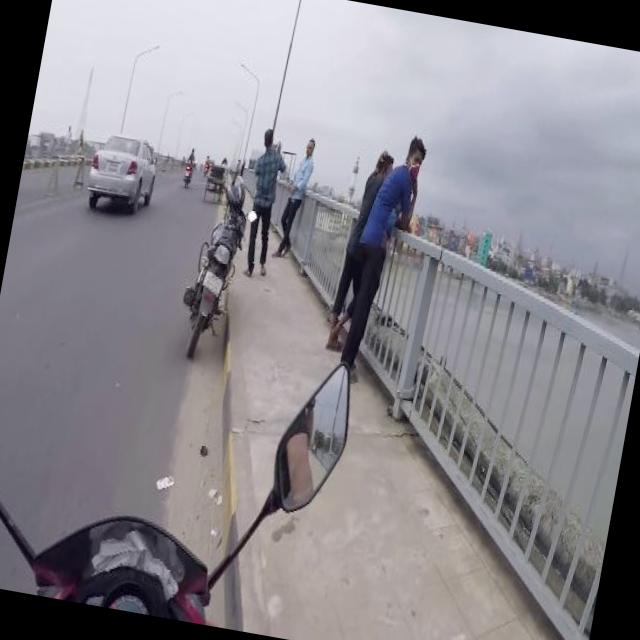car: (82, 125, 164, 216)
motorcycle: (0, 295, 363, 640), (172, 170, 270, 366), (181, 146, 199, 188), (200, 152, 212, 176)
